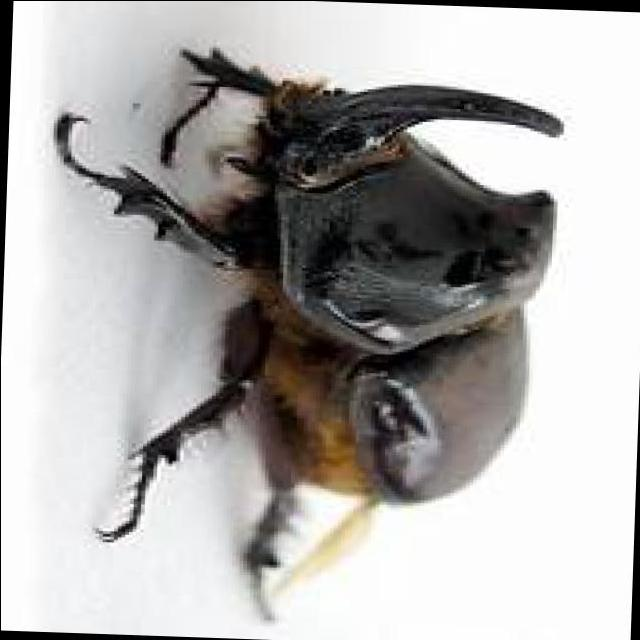Rhino-beetle: (80, 38, 599, 568)
